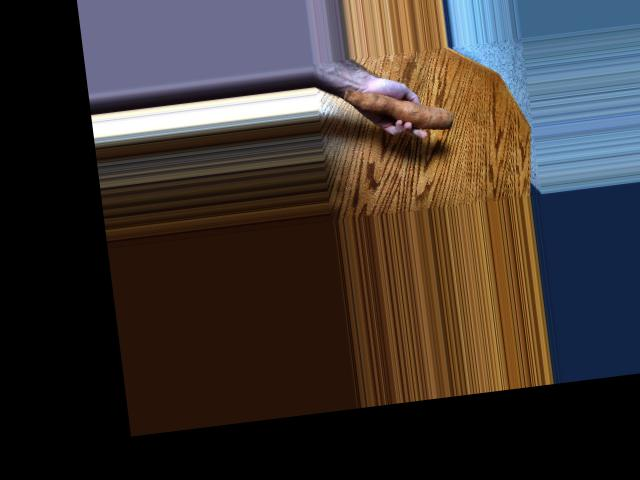sweet_potato: (342, 76, 450, 134)
